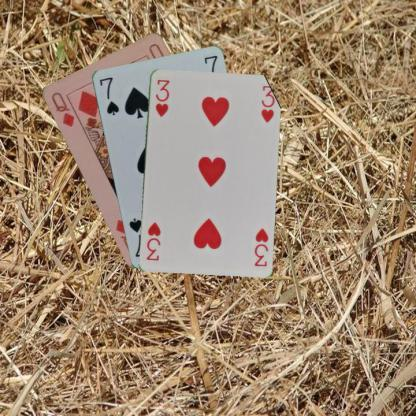3h: (252, 225, 270, 268), (152, 77, 170, 118)
7s: (96, 74, 121, 117)
Qd: (48, 89, 76, 128)
